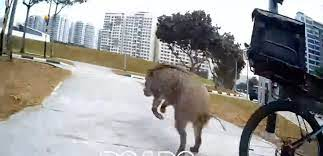boar: (139, 59, 231, 153)
